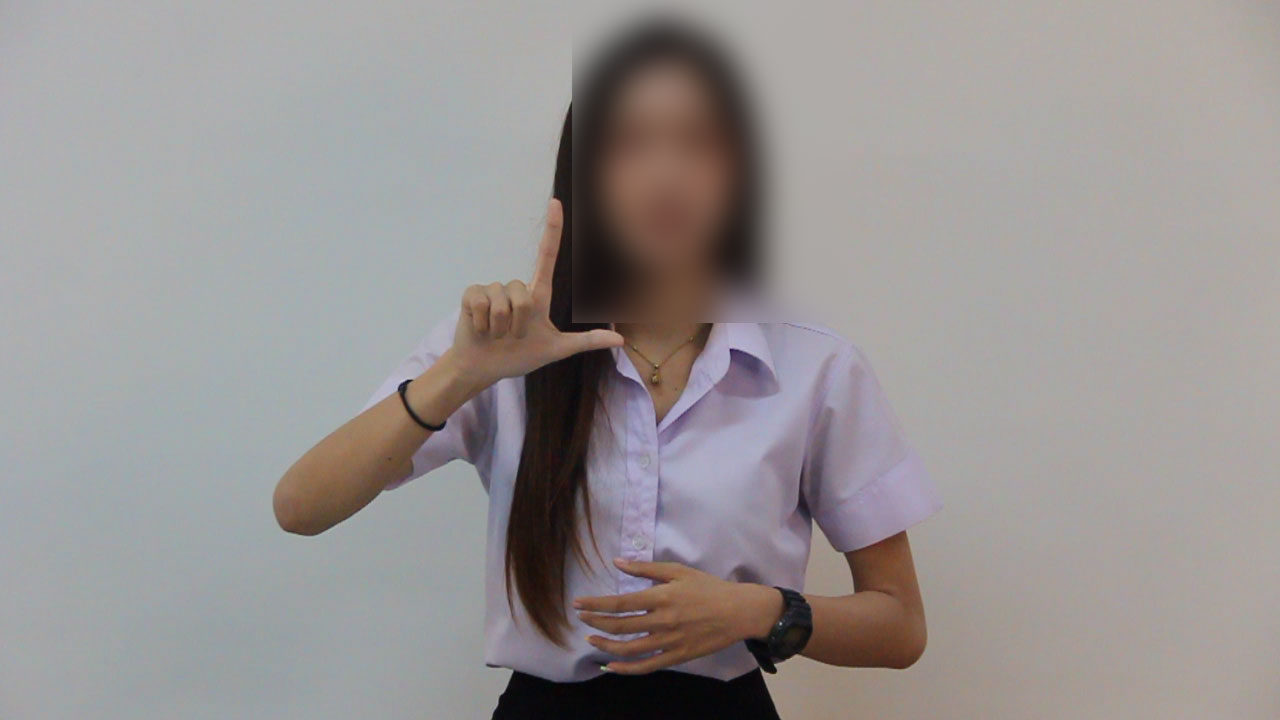lor: (395, 190, 629, 408)
